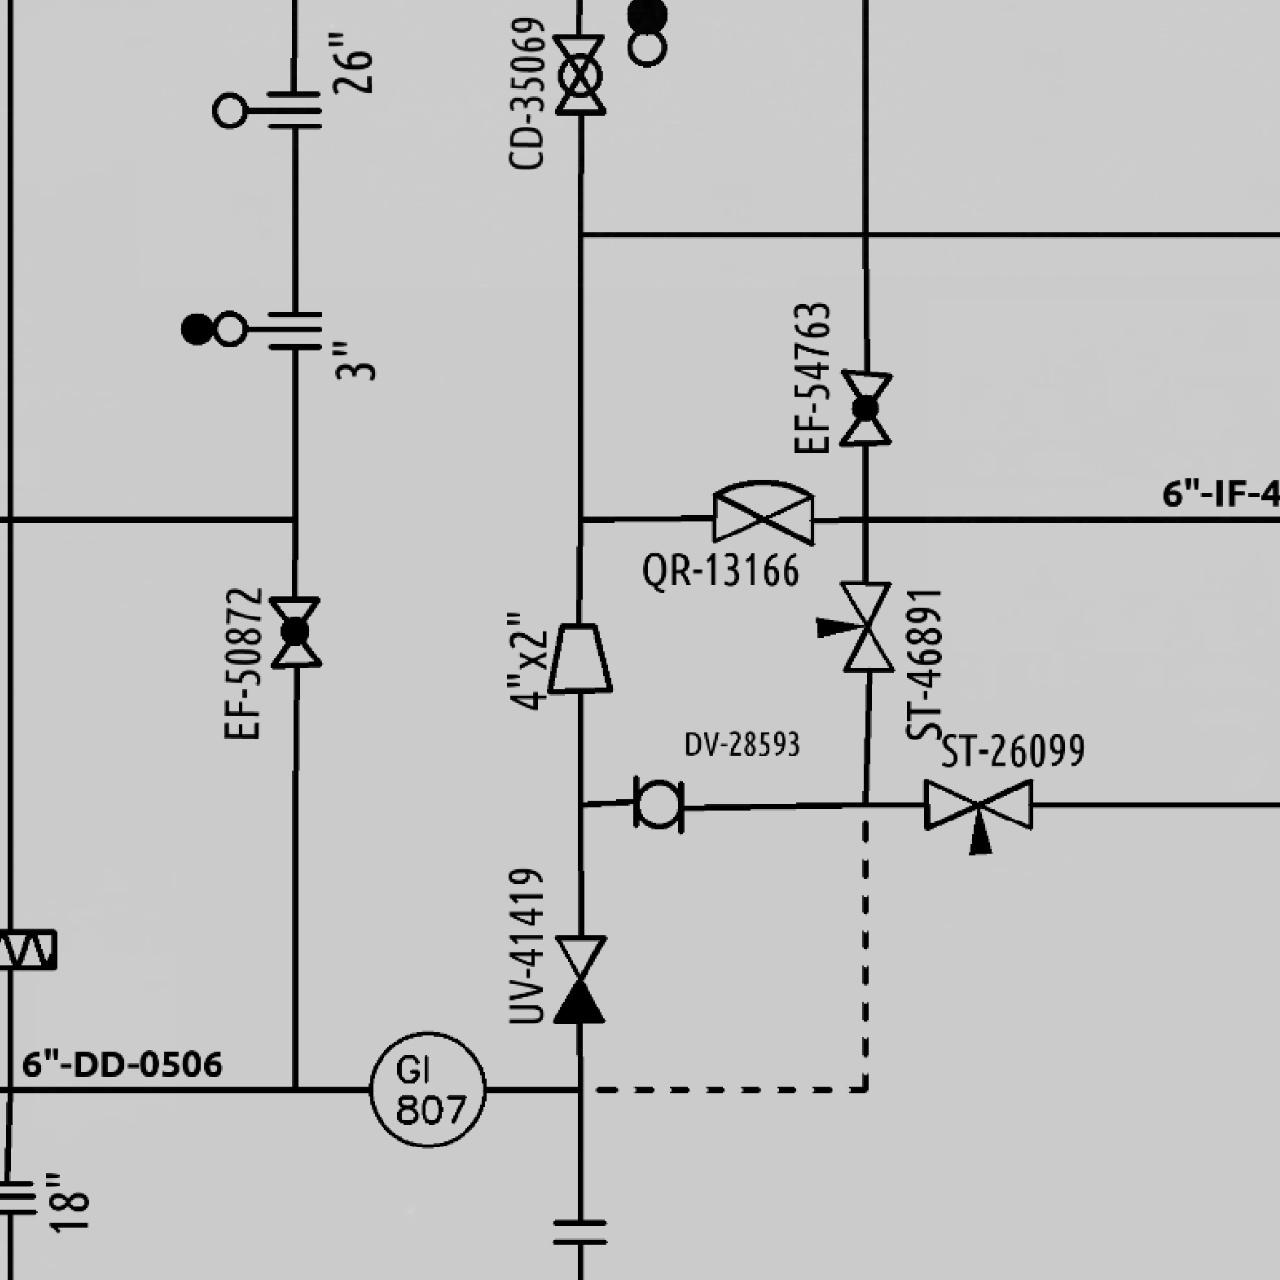Half closed valve: (549, 930, 610, 1027)
